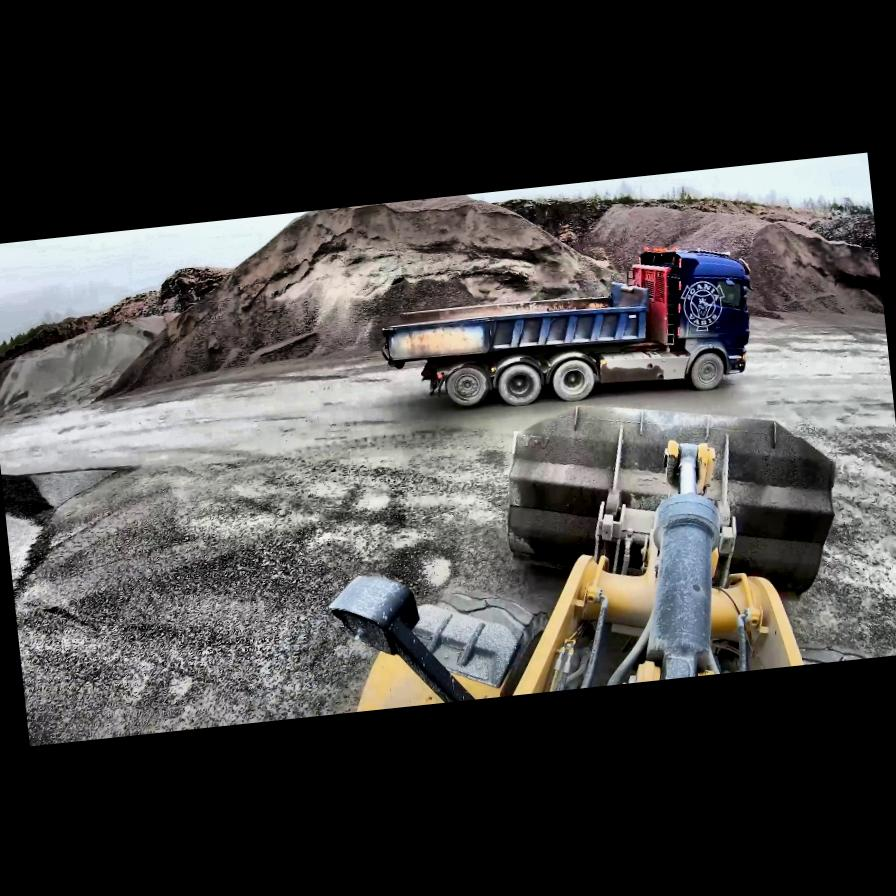anchor: (662, 435, 719, 499)
pile of gravel: (72, 178, 634, 402), (572, 174, 884, 346), (0, 309, 188, 417)
